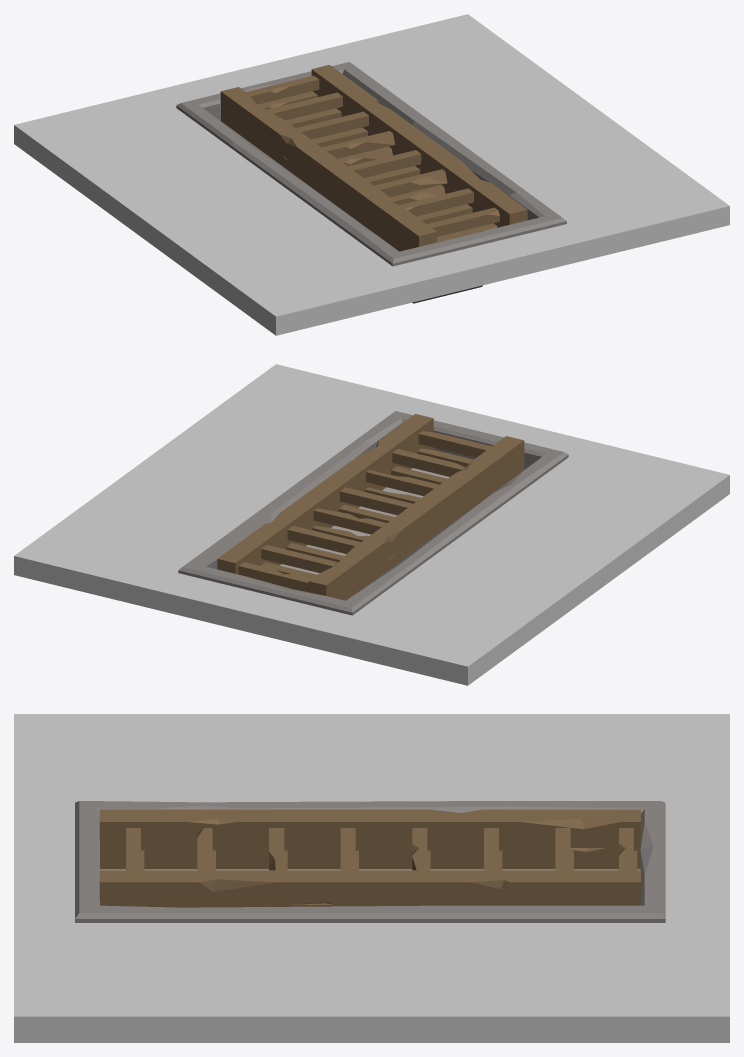
File: SM_Bld_Ceiling_Ladder_01.fbx
3 views of the same model, one above another, from view 1: azimuth 30°, elevation 25°; view 2: azimuth 150°, elevation 25°; view 3: azimuth 270°, elevation 25° (orthographic). The views are drawn at different scales.
Parts seen in each view (by area): view 1: SM_Bld_Ceiling_Ladder_01, SM_Bld_Ceiling_Ladder_01_Hatch_01; view 2: SM_Bld_Ceiling_Ladder_01, SM_Bld_Ceiling_Ladder_01_Hatch_01; view 3: SM_Bld_Ceiling_Ladder_01, SM_Bld_Ceiling_Ladder_01_Hatch_01.
Boxes of the visible parts, x1,y1,x2,y2 form: SM_Bld_Ceiling_Ladder_01: (14, 14, 729, 335); SM_Bld_Ceiling_Ladder_01_Hatch_01: (220, 64, 527, 248); SM_Bld_Ceiling_Ladder_01: (14, 364, 729, 685); SM_Bld_Ceiling_Ladder_01_Hatch_01: (217, 414, 524, 597); SM_Bld_Ceiling_Ladder_01: (14, 714, 729, 1042); SM_Bld_Ceiling_Ladder_01_Hatch_01: (99, 809, 640, 907).
Bounding box in the file's own units: 250 × 46.62 × 250.
